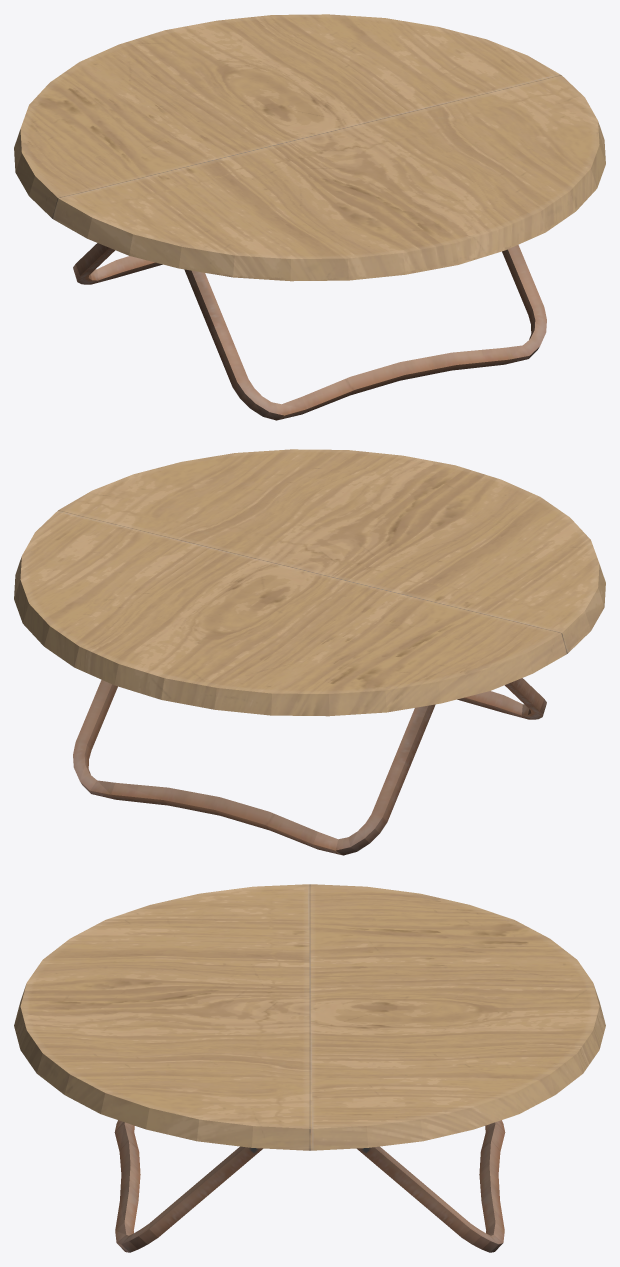
File: Home_07_ID210.obj
3 views of the same model, one above another, from view 1: azimuth 30°, elevation 25°; view 2: azimuth 150°, elevation 25°; view 3: azimuth 270°, elevation 25° (orthographic).
Bounding box in the file's own units: 1.8 × 0.6181 × 1.8.
Materials: 1 (1 with a texture image).
